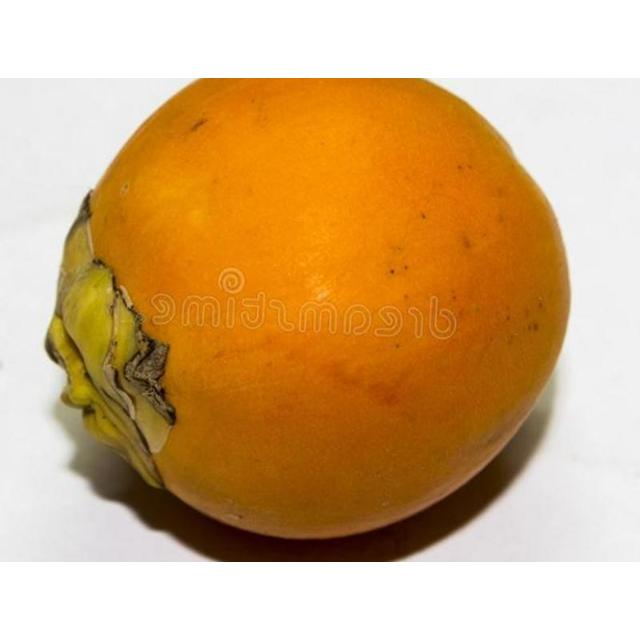good: (45, 78, 574, 543)
